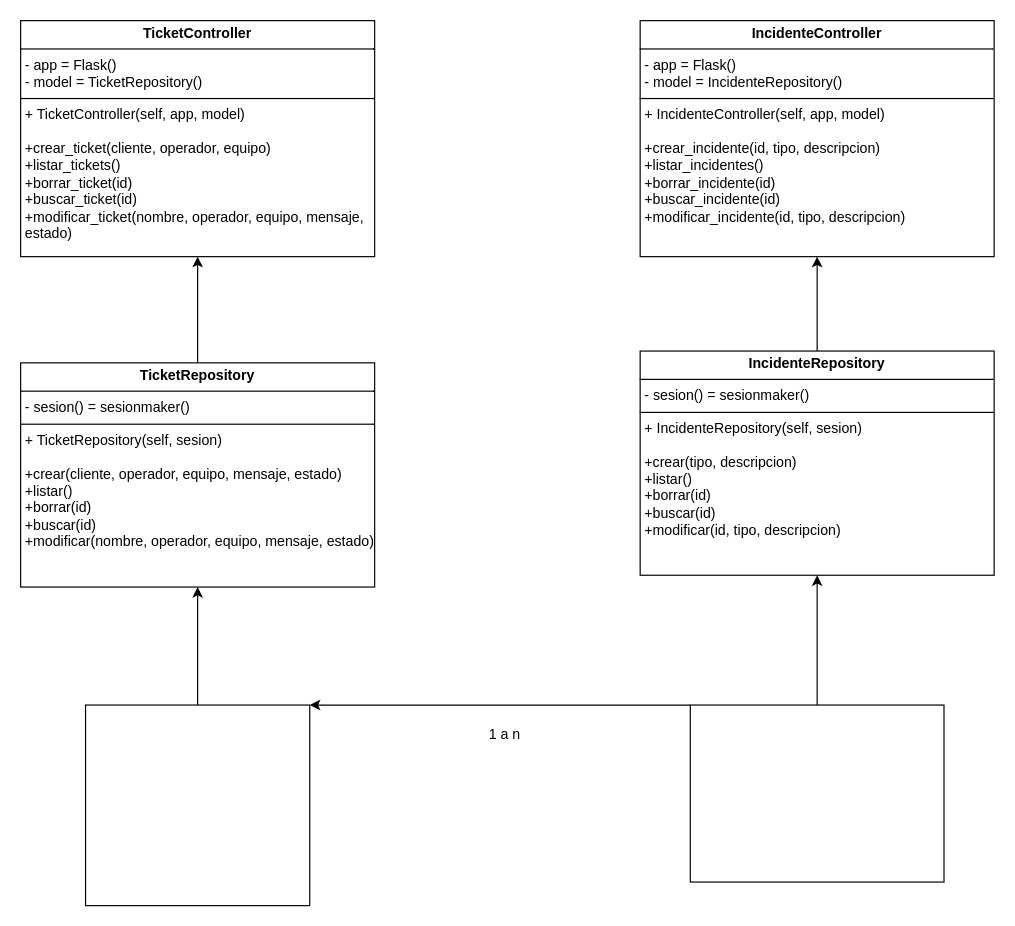
The diagram is 1015 pixels wide and 926 high, and some of its shapes have lost their labels. The box of each missing label's shape, as (x1, y1, x2, y2) in pixels:
Incidente - id - Tipo - Descripcion - ticket_id foreign key +to_dict(): (689, 704, 944, 882)
Ticket - Cliente - Operador - Equipo - Incidente - Mensaje +to_dict(): (84, 704, 310, 906)
